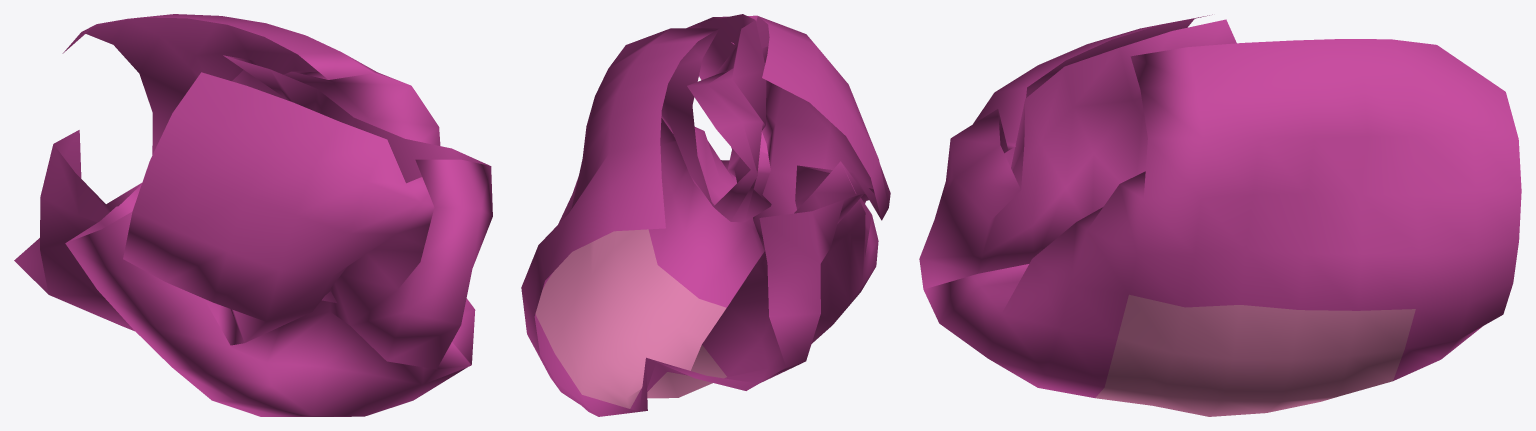
The model's file is furnishings-trash-candywrapper_v4.glb.
The picture shows the model from 3 angles, left to right: view 1: azimuth 30°, elevation 25°; view 2: azimuth 150°, elevation 25°; view 3: azimuth 270°, elevation 25°; orthographic projection. The views are drawn at different scales.
Parts seen in each view (by area): view 1: CandyWrapper_v4; view 2: CandyWrapper_v4; view 3: CandyWrapper_v4.
Part boxes in pixels (bbox=[...]): CandyWrapper_v4: bbox=[14, 14, 492, 416]; CandyWrapper_v4: bbox=[521, 14, 890, 416]; CandyWrapper_v4: bbox=[919, 14, 1521, 416].
Bounding box in the file's own units: 0.0387 × 0.0393 × 0.0594.
